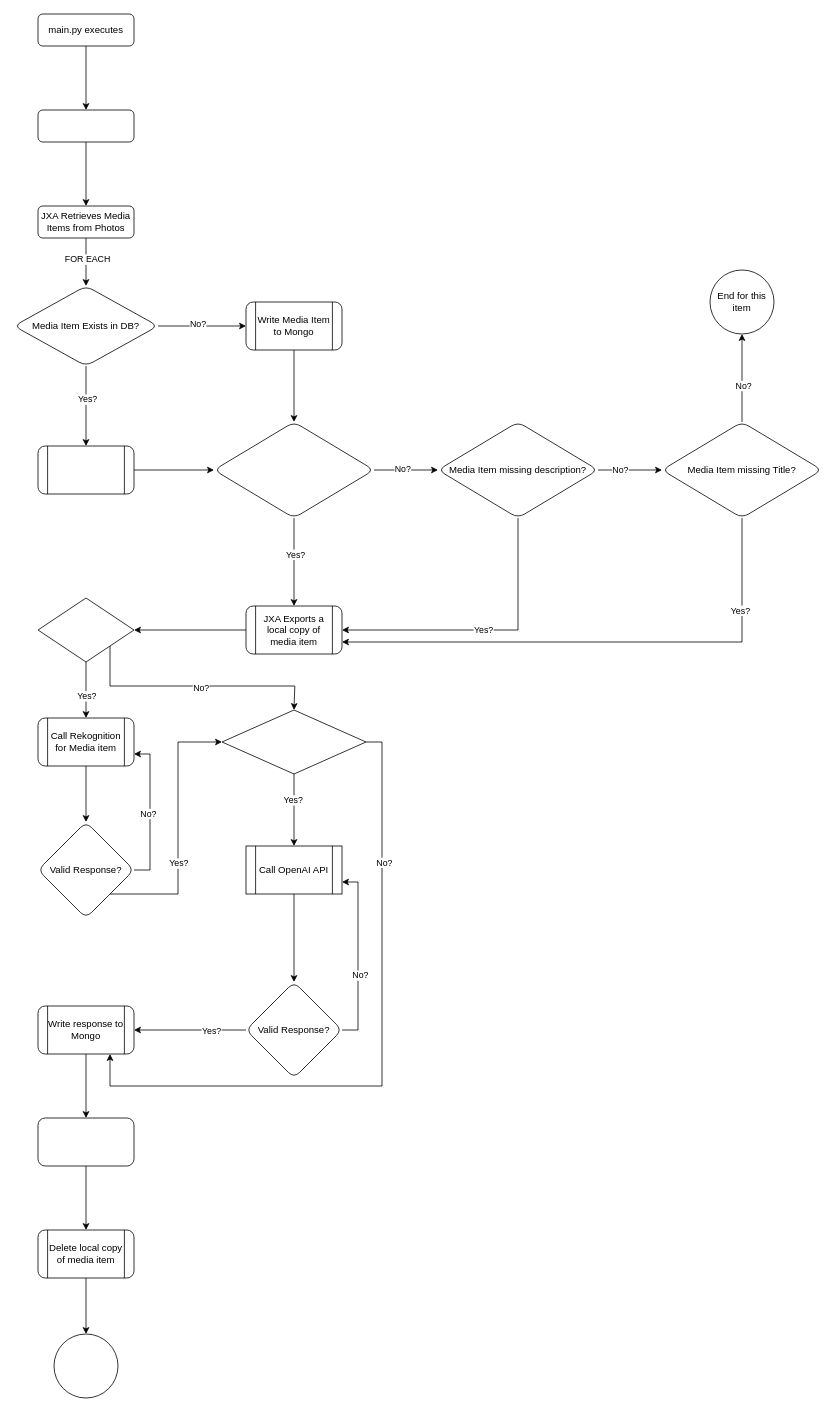
Image size: 836x1412. Some labels were removed from this diagram. The shapes that lost their labels are listed below. From the top down, each one's centre as x and y in pixels, then its label:
point (85, 125): Connect to MongoDB
point (85, 469): Add any updated data from Photos to Mongo
point (293, 469): Media Item has less than 5 keywords?
point (85, 629): (keywords < 5) ?
point (293, 741): Missing Description or Title?
point (85, 1141): JXA Script Updates Media Item with an additional metadata
point (85, 1365): End
